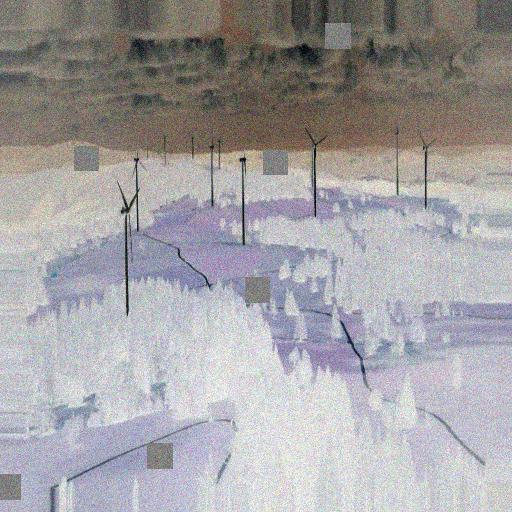wind turbine: (114, 181, 141, 316), (302, 127, 332, 219), (412, 127, 442, 205)
